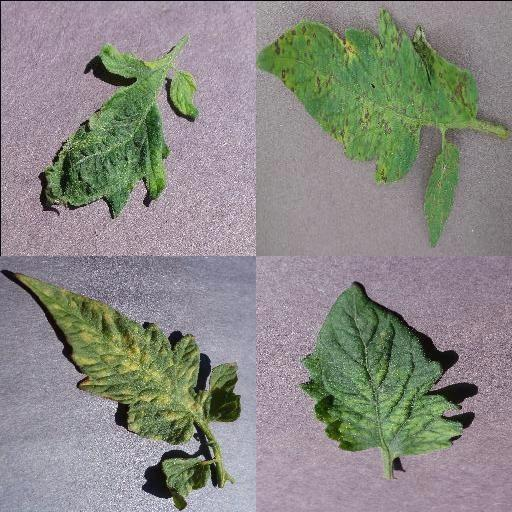Leaf Mold: (14, 272, 242, 446)
Mosaic Virus: (298, 281, 466, 459), (43, 40, 201, 218)
Septoria: (257, 7, 481, 181)
